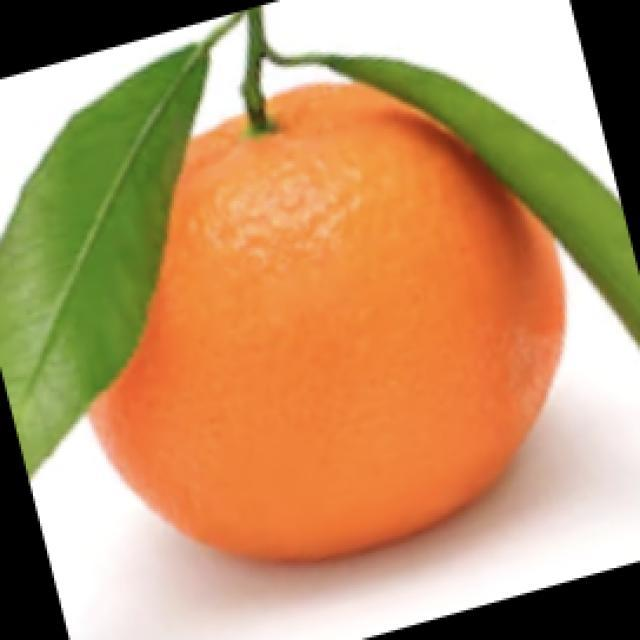matang: (92, 84, 565, 560)
